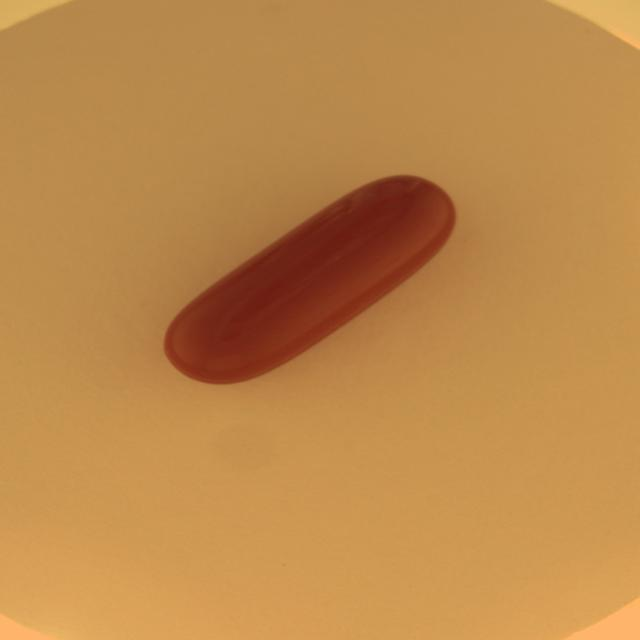Oval: (162, 173, 454, 387)
